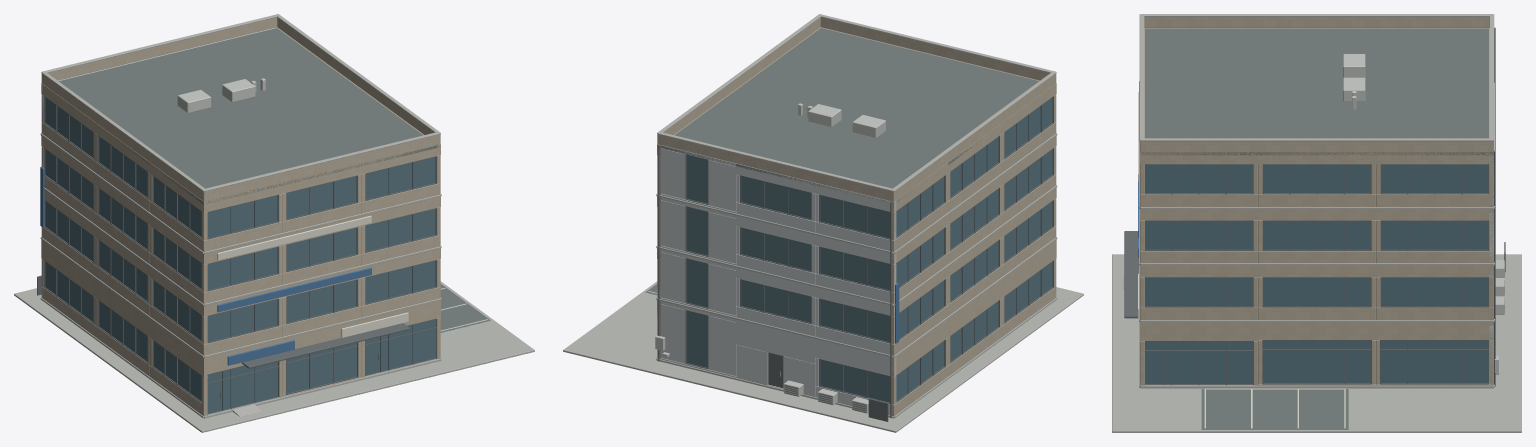
The model's file is COMMERCIAL_02_NEIGHBORHOOD_CENTER.fbx.
3 views of the same model, side by side, from view 1: azimuth 30°, elevation 25°; view 2: azimuth 150°, elevation 25°; view 3: azimuth 270°, elevation 25° (orthographic). The views are drawn at different scales.
Visible parts, largest first — view 1: UNITY_ASSET_COMMERCIAL_02_NEIGHBORHOOD_CENTER; view 2: UNITY_ASSET_COMMERCIAL_02_NEIGHBORHOOD_CENTER; view 3: UNITY_ASSET_COMMERCIAL_02_NEIGHBORHOOD_CENTER.
Part boxes in pixels (x1,y1,x2,y2): UNITY_ASSET_COMMERCIAL_02_NEIGHBORHOOD_CENTER: [14, 14, 534, 432]; UNITY_ASSET_COMMERCIAL_02_NEIGHBORHOOD_CENTER: [563, 14, 1083, 432]; UNITY_ASSET_COMMERCIAL_02_NEIGHBORHOOD_CENTER: [1112, 14, 1521, 432].
Bounding box in the file's own units: 20.25 × 13.38 × 19.8.
Materials: 10 (1 with a texture image).
